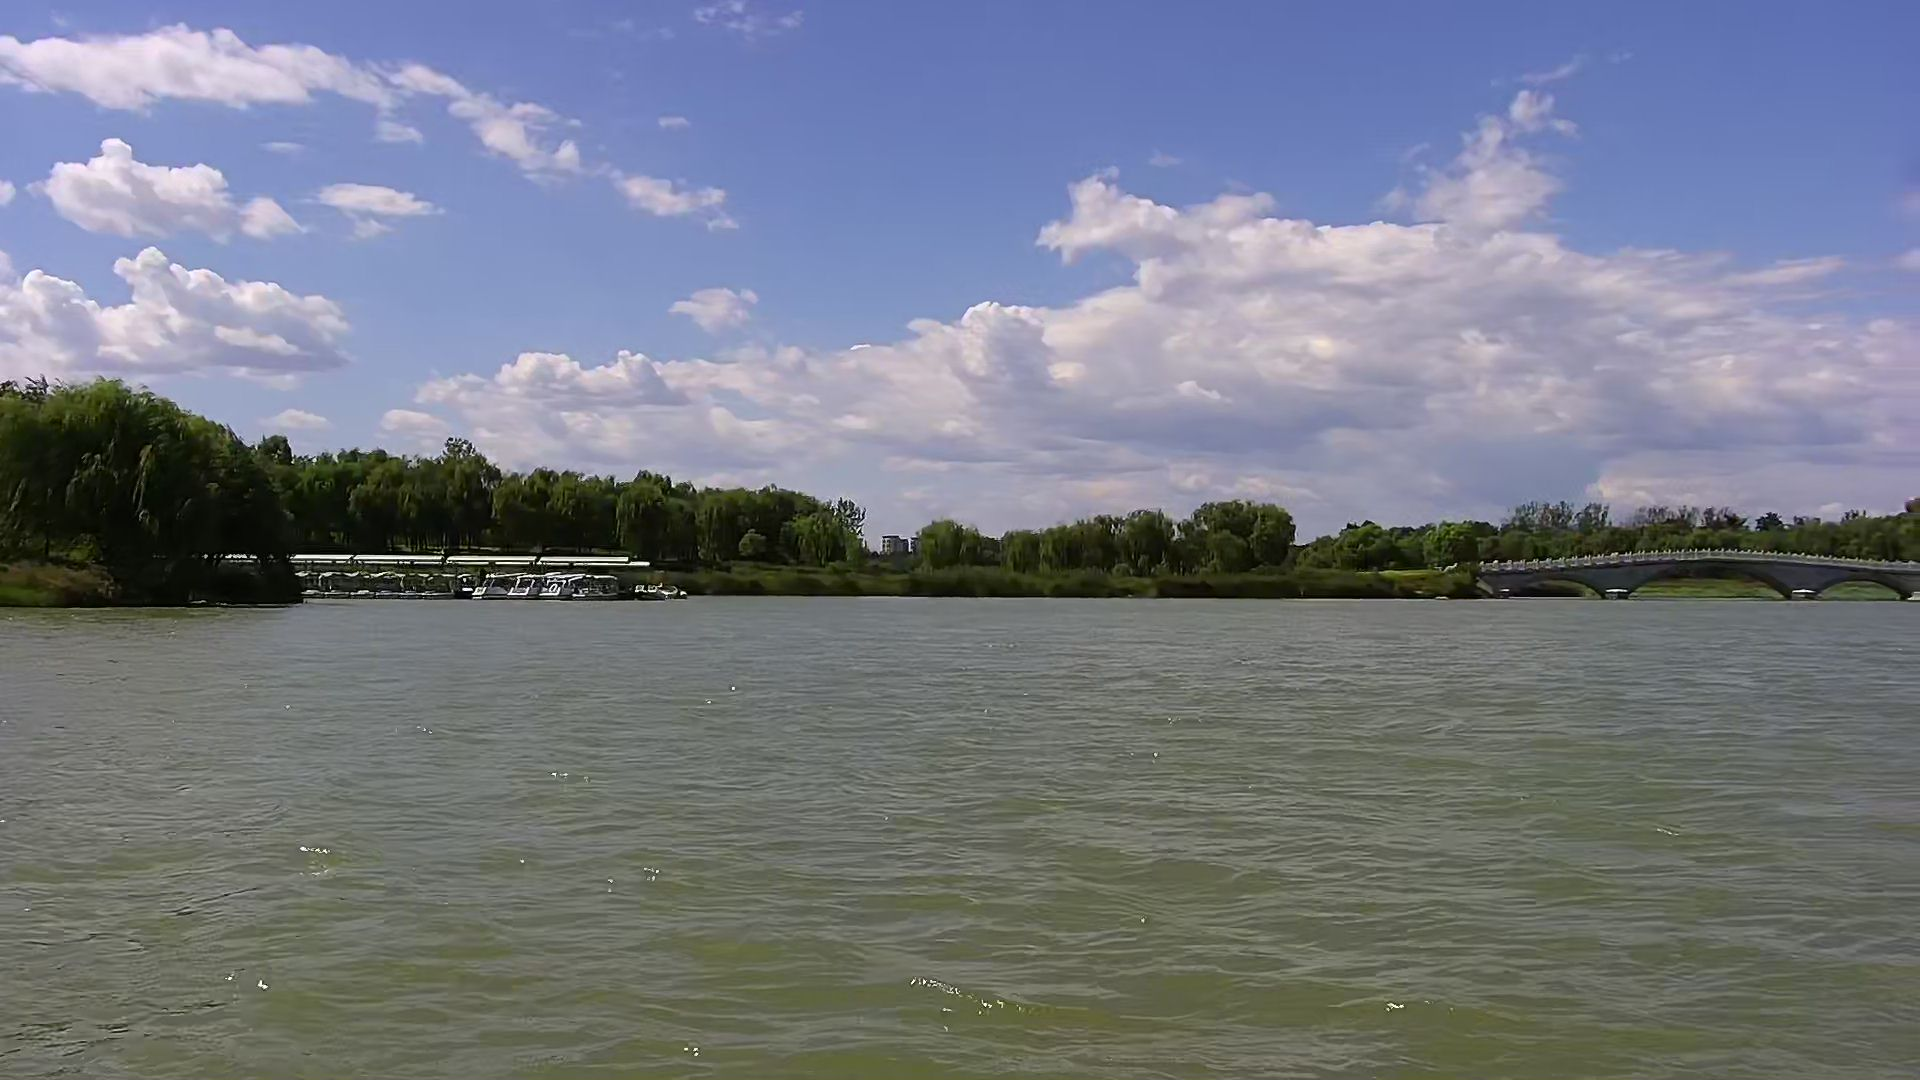bridge: (1480, 545, 1920, 599)
harbor: (293, 550, 688, 597)
